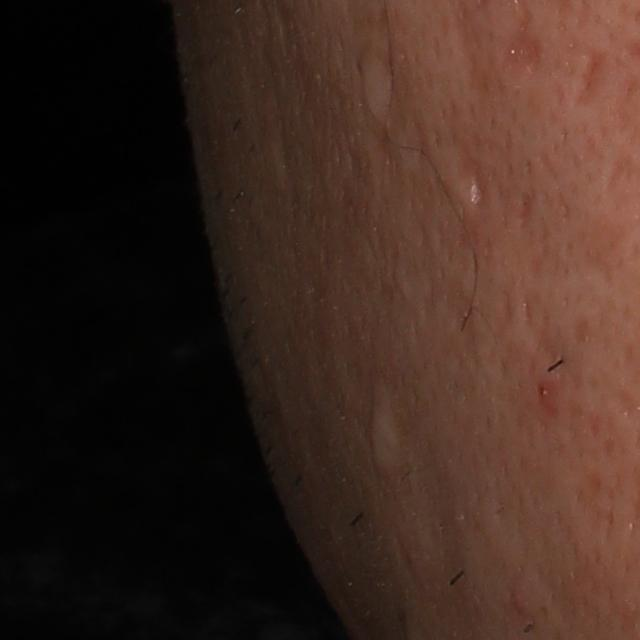atrophic_scar: (498, 26, 549, 82), (568, 52, 614, 110), (364, 49, 399, 123), (458, 153, 489, 210), (515, 191, 535, 229)
hypertrophic_scar: (365, 383, 415, 490)
papule: (509, 590, 539, 625)
